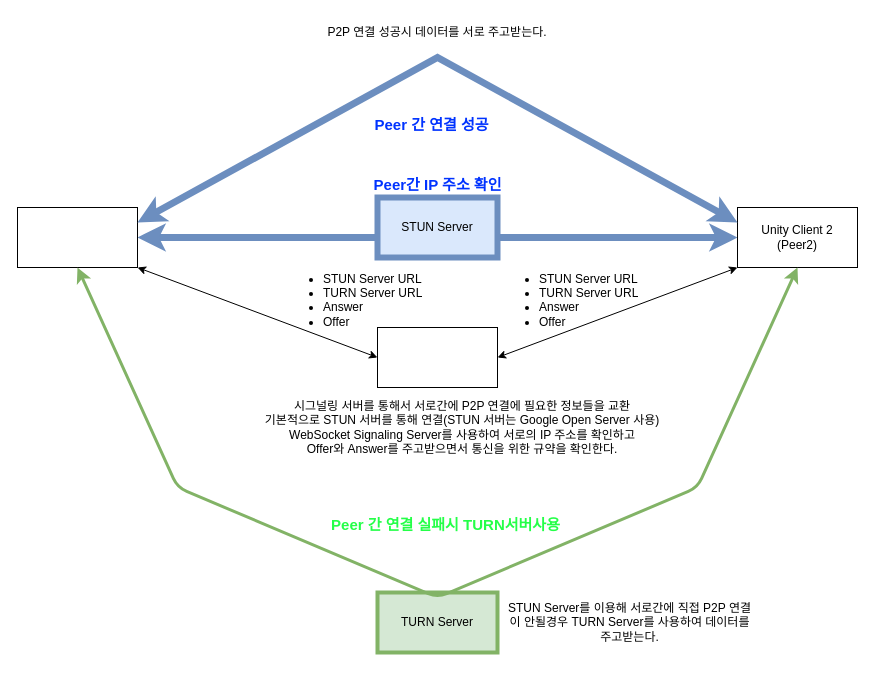
This 875x682 diagram has some shape labels left out. Each missing label, with the box of its shape:
Signaling Server: (376, 326, 498, 388)
Unity Client 1 (Peer1): (16, 206, 138, 268)
